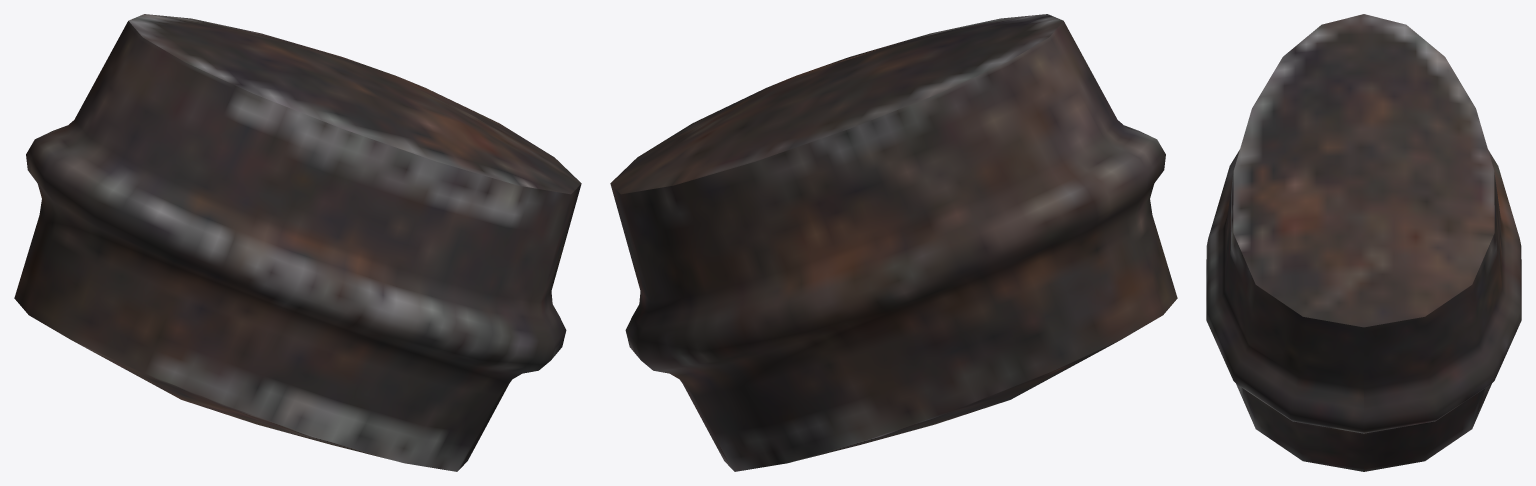
File: wm_dol_goldur_1h_sword_a01_guard.fbx
3 renders of one model, left to right at view 1: azimuth 30°, elevation 25°; view 2: azimuth 150°, elevation 25°; view 3: azimuth 270°, elevation 25°, orthographic. The views are drawn at different scales.
Visible parts, largest first — view 1: wm_dol_goldur_1h_sword_a01_guard; view 2: wm_dol_goldur_1h_sword_a01_guard; view 3: wm_dol_goldur_1h_sword_a01_guard.
Part boxes in pixels (left/top/right/bottom): wm_dol_goldur_1h_sword_a01_guard: left=14, top=14, right=581, bottom=471; wm_dol_goldur_1h_sword_a01_guard: left=610, top=14, right=1177, bottom=471; wm_dol_goldur_1h_sword_a01_guard: left=1206, top=14, right=1521, bottom=471.
Bounding box in the file's own units: 0.0504 × 0.0352 × 0.0431.
1 material, 1 textured.
